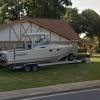Boat: (0, 29, 85, 78)
